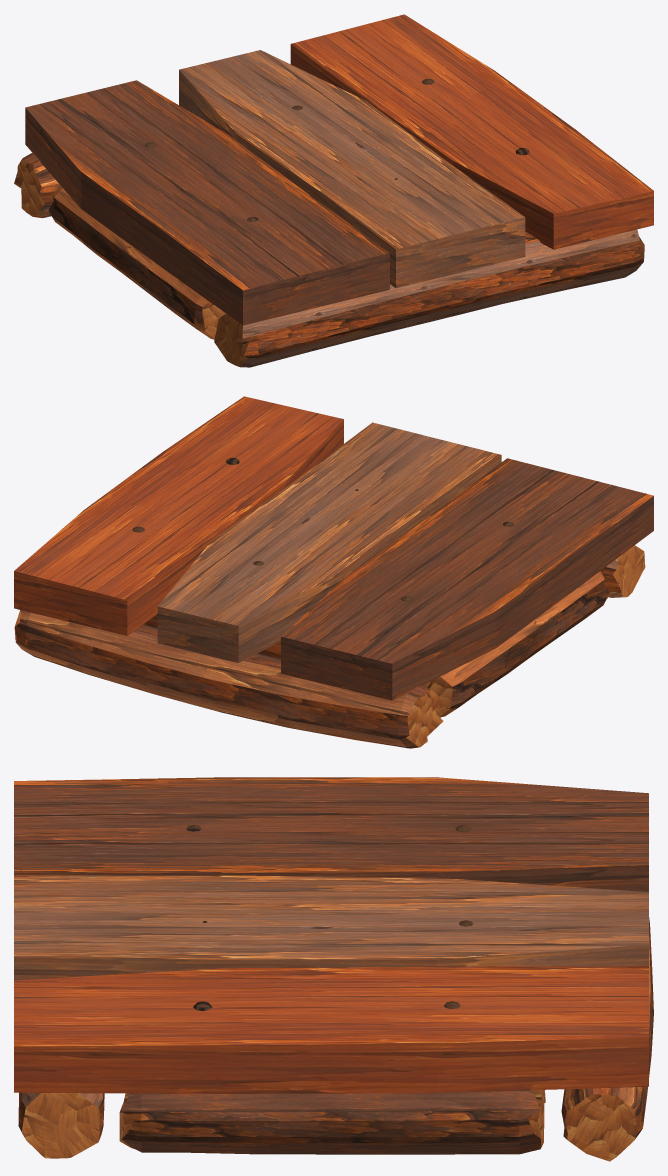
The model's file is small_floor__plank_root.glb.
The picture shows the model from 3 angles, top to bottom: view 1: azimuth 30°, elevation 25°; view 2: azimuth 150°, elevation 25°; view 3: azimuth 270°, elevation 25°; orthographic projection. The views are drawn at different scales.
Parts seen in each view (by area): view 1: model; view 2: model; view 3: model.
Part boxes in pixels (<box>): model: <box>14,14,653,367</box>; model: <box>14,396,653,748</box>; model: <box>14,777,653,1161</box>.
Size of the model in its own units: 0.9868 by 0.2352 by 0.9957.
Materials: 16 (16 with a texture image).
